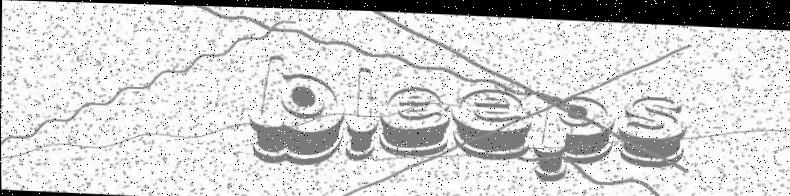b: (237, 40, 351, 166)
e: (452, 78, 532, 161), (376, 83, 456, 157)
l: (342, 58, 385, 167)
p: (533, 87, 616, 180)
s: (619, 86, 691, 169)
